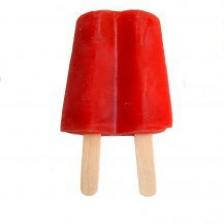red: (61, 10, 172, 196)
